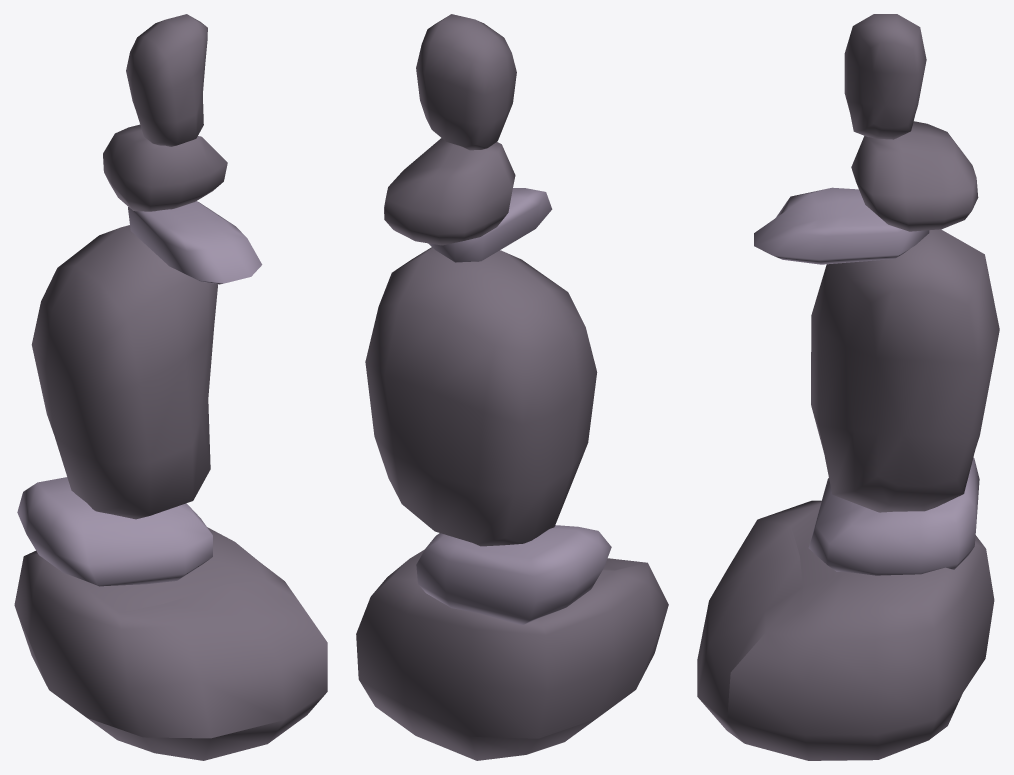
The model's file is P_balanceRock_03_LD.fbx.
3 views of the same model, side by side, from view 1: azimuth 30°, elevation 25°; view 2: azimuth 150°, elevation 25°; view 3: azimuth 270°, elevation 25° (orthographic). The views are drawn at different scales.
Parts seen in each view (by area): view 1: P_balanceRock_03; view 2: P_balanceRock_03; view 3: P_balanceRock_03.
Part boxes in pixels (bbox=[...]): P_balanceRock_03: bbox=[14, 14, 327, 760]; P_balanceRock_03: bbox=[356, 14, 668, 760]; P_balanceRock_03: bbox=[697, 14, 999, 760].
Size of the model in its own units: 0.6738 by 1.8 by 0.6899.
Materials: 1 (1 with a texture image).
